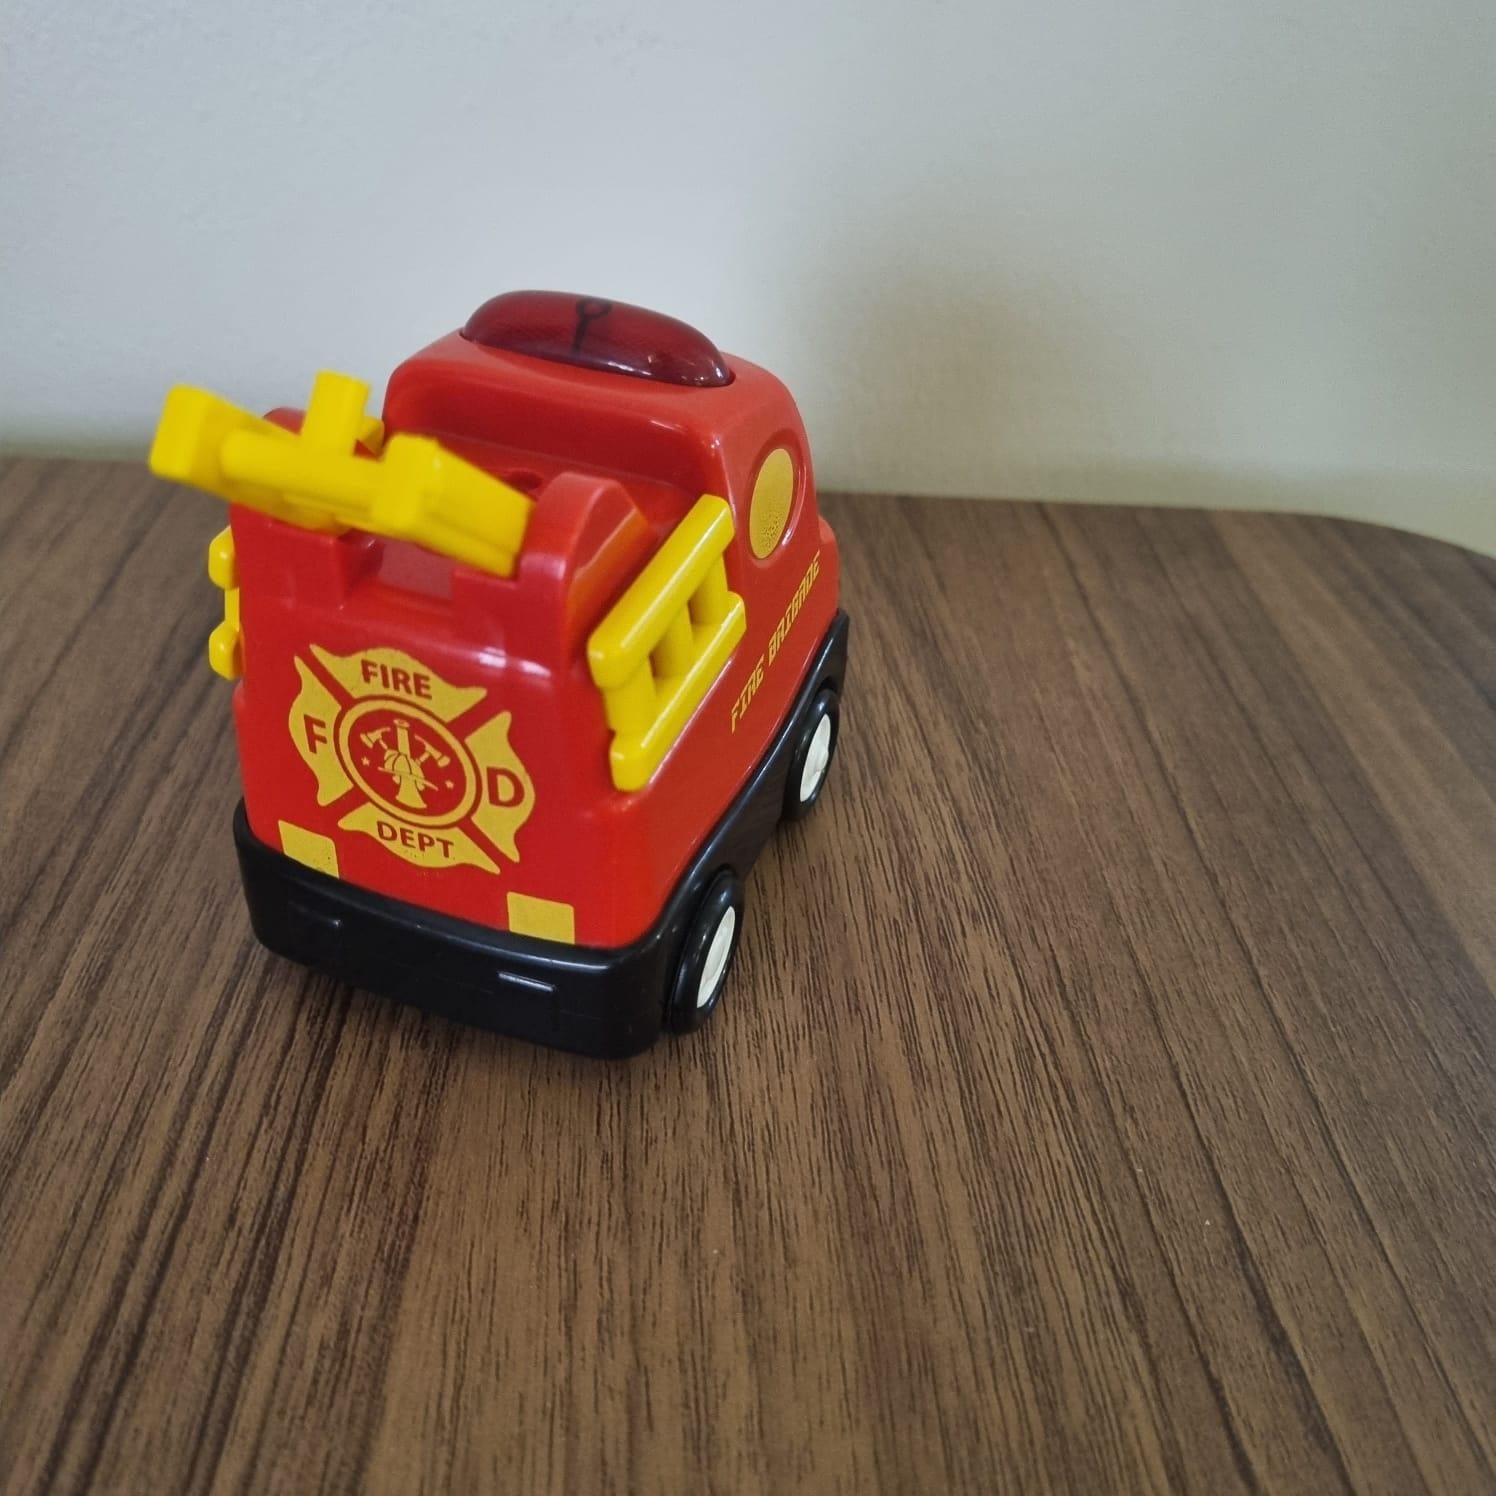firetruck_off: (158, 284, 848, 1067)
